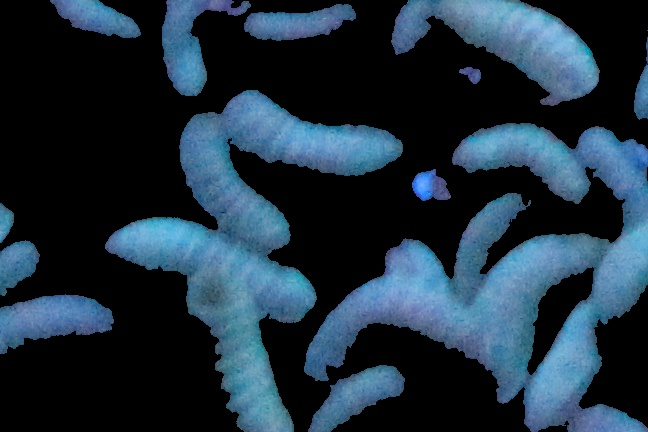larvae: (473, 224, 592, 379), (114, 215, 307, 310), (300, 275, 482, 374), (225, 89, 403, 178), (439, 1, 599, 96), (176, 113, 282, 241), (522, 305, 623, 430), (583, 126, 648, 319), (208, 292, 294, 432), (448, 123, 594, 204), (440, 184, 524, 293), (229, 8, 367, 60), (296, 368, 407, 431), (1, 290, 112, 349), (161, 1, 225, 96), (31, 1, 144, 47), (391, 1, 432, 59), (1, 239, 43, 289)
